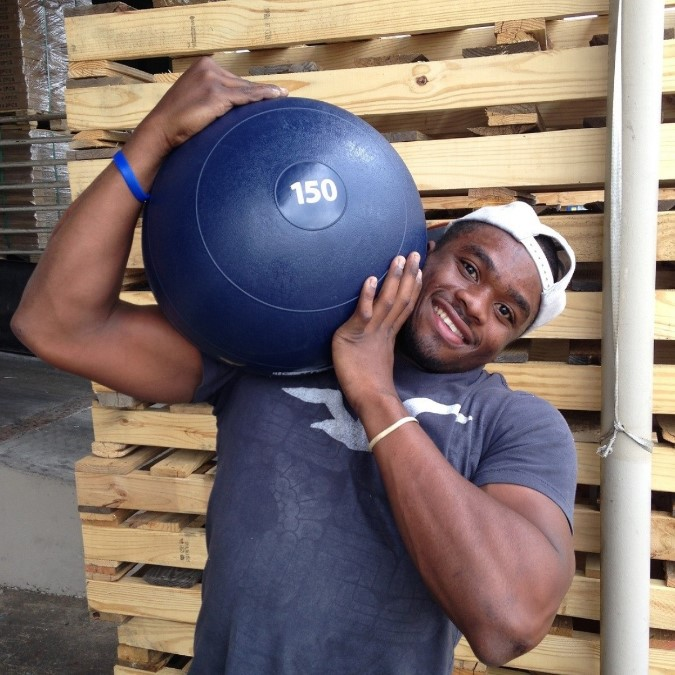blue ball: (142, 99, 431, 373)
